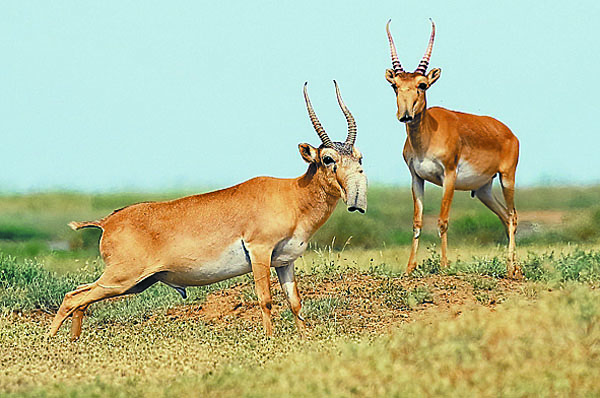saiga: (44, 80, 368, 343), (385, 16, 521, 283)
